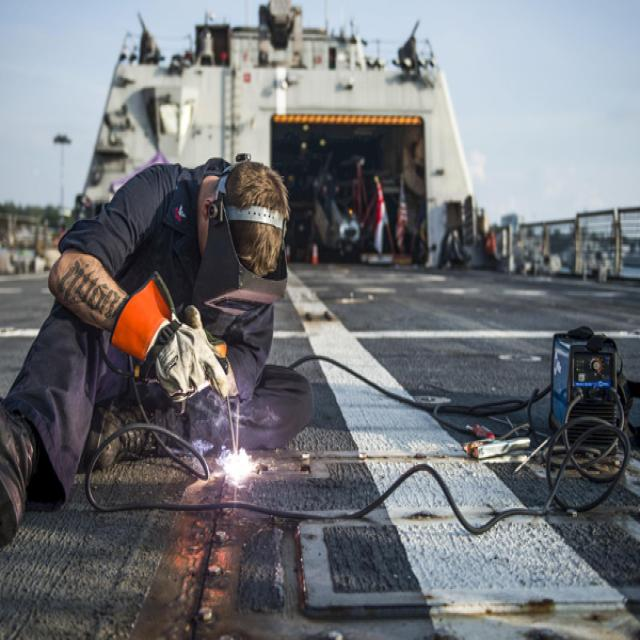welding: (223, 447, 254, 484)
